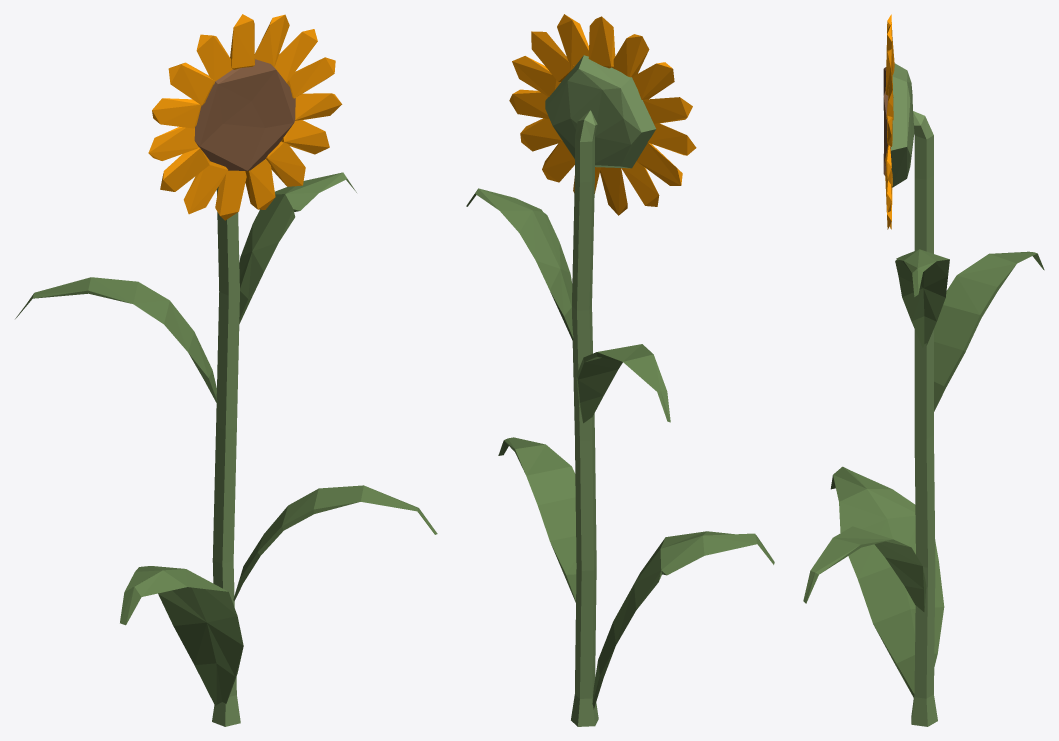
Rendered from Mesh_Plants_Sunflower_01.FBX.
3 renders of one model, left to right at view 1: azimuth 30°, elevation 25°; view 2: azimuth 150°, elevation 25°; view 3: azimuth 270°, elevation 25°, orthographic. The views are drawn at different scales.
Parts seen in each view (by area): view 1: Mesh_Plants_Sunflower_01; view 2: Mesh_Plants_Sunflower_01; view 3: Mesh_Plants_Sunflower_01.
Part boxes in pixels (x1,y1,x2,y2): Mesh_Plants_Sunflower_01: (15, 14, 437, 726); Mesh_Plants_Sunflower_01: (466, 14, 774, 726); Mesh_Plants_Sunflower_01: (803, 14, 1044, 726).
Size of what is drawn, in the model's own units: 54 by 38.61 by 123.
